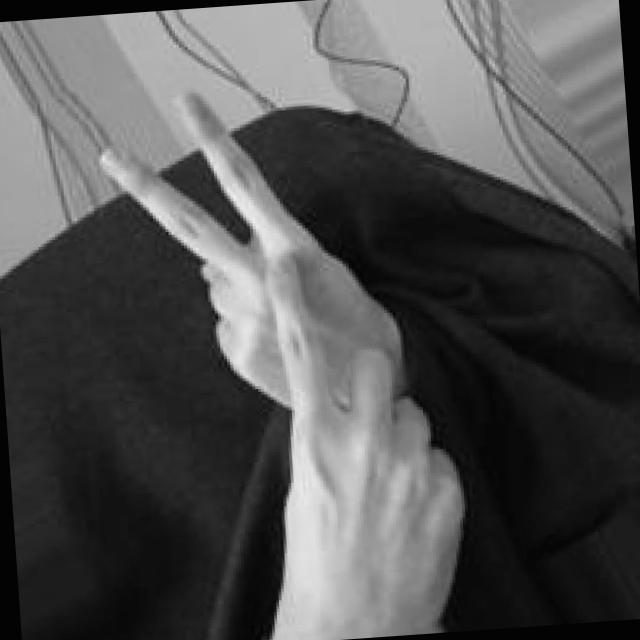Y: (89, 69, 473, 640)
